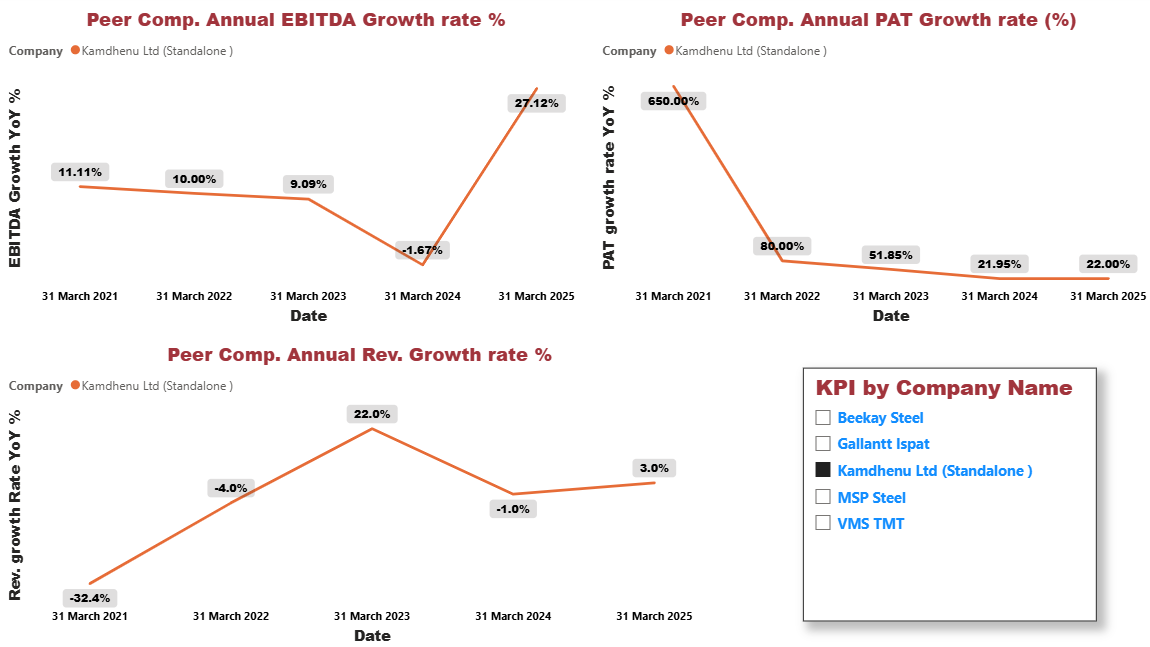

Layout of this report page (visuals, bound fields, positions):
{"tool":"powerbi","page":{"name":"KPI","canvas":[1280,720],"ordinal":1},"visuals":[{"type":"lineChart","title":"Peer Comp. Annual  EBITDA Growth rate %","fields":{"Series":["EBITDA.Company"],"Y":["EBITDA.EBITDA Yoy % Chnage"],"Category":["EBITDA.Date"]},"box":[12.3,12.3,640.8,356.8],"z":0},{"type":"lineChart","title":"Peer Comp. Annual Rev. Growth rate % ","fields":{"Category":["Revenue.Date"],"Y":["Revenue.Revenue Growth YoY %"],"Series":["Revenue.Company"]},"box":[12.3,380.1,780.8,340.3],"z":1},{"type":"lineChart","title":"Peer Comp. Annual PAT Growth rate (%)","fields":{"Category":["PAT.Date"],"Y":["PAT.PAT %"],"Series":["PAT.Company"]},"box":[664.2,12.3,616.1,356.8],"z":2},{"type":"slicer","fields":{"Values":["Company Table.Compnay"]},"box":[889.2,410.3,322.5,278.6],"z":3}]}

Visuals, with their boxes in screenshot pixels (x1, y1, x2, y2), scaled from the page's 1280x720 canvas onto the 1150x647 screenshot:
"Peer Comp. Annual  EBITDA Growth rate %" lineChart: box(11, 11, 587, 332)
"Peer Comp. Annual Rev. Growth rate % " lineChart: box(11, 342, 713, 646)
"Peer Comp. Annual PAT Growth rate (%)" lineChart: box(597, 11, 1149, 332)
slicer - Company Table.Compnay: box(799, 369, 1089, 619)
